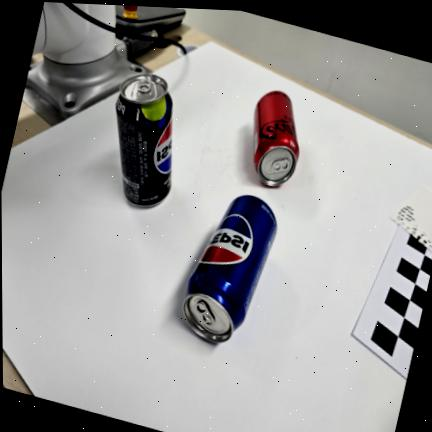can_coke_zero: (253, 91, 299, 186)
can_pepsi: (183, 195, 277, 342)
can_pepsi_zero: (116, 74, 173, 206)
